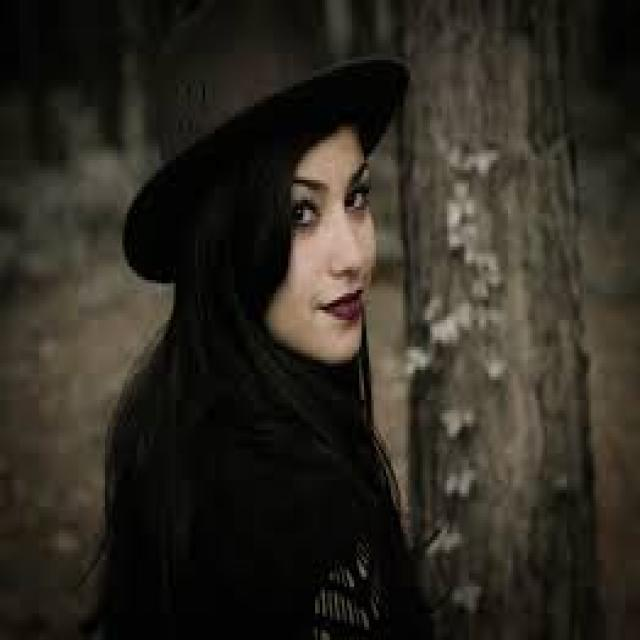hat: (122, 4, 410, 364)
